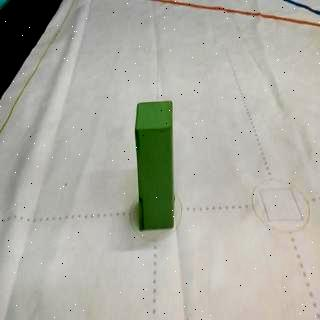greenbox: (134, 100, 176, 233)
